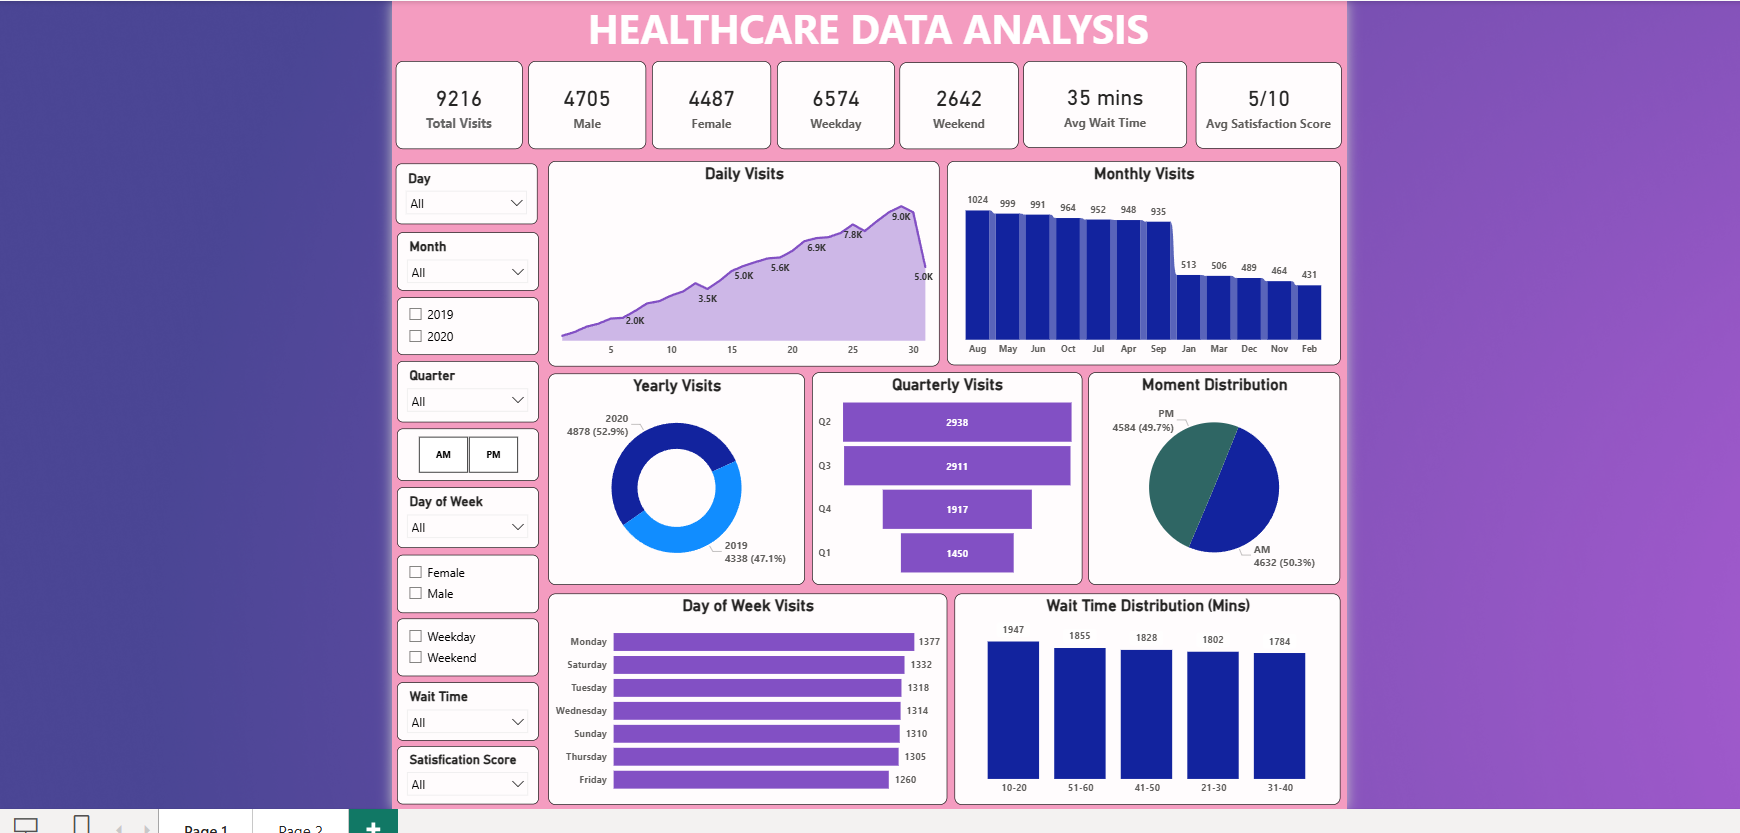

The page's visual inventory and layout, read from the dashboard file:
{"tool":"powerbi","page":{"name":"Page 1","canvas":[1282,1086],"ordinal":0},"visuals":[{"type":"stackedAreaChart","title":"Daily Visits","fields":{"Category":["date_time table.day"],"Y":["Sum(date_time table.day)"]},"box":[210,215.7,525.7,275.7],"z":0},{"type":"columnChart","title":"Monthly Visits","fields":{"Category":["date_time table.month"],"Y":["CountNonNull(date_time table.month)"]},"box":[745.7,215.7,528.6,274.3],"z":1000},{"type":"donutChart","title":"Yearly Visits","fields":{"Y":["CountNonNull(date_time table.year)"],"Category":["date_time table.year"]},"box":[210,500,345,283.8],"z":2000},{"type":"clusteredBarChart","title":"Day of Week Visits","fields":{"Category":["date_time table.day of week"],"Y":["CountNonNull(date_time table.day of week)"]},"box":[210,795.7,535.7,284.3],"z":3000},{"type":"funnel","title":"Quarterly Visits","fields":{"Category":["date_time table.quarter"],"Y":["CountNonNull(date_time table.quarter)"]},"box":[564.3,499.4,362.9,285.7],"z":4000},{"type":"pieChart","title":"Moment Distribution","fields":{"Category":["date_time table.Moment"],"Y":["CountNonNull(date_time table.Moment)"]},"box":[935.7,498,338.6,285.7],"z":5000},{"type":"textbox","box":[0,0,1280,74.3],"z":6000},{"type":"lineStackedColumnComboChart","title":"Wait Time Distribution (Mins)","fields":{"Category":["date_time table.waittime_bucket"],"Y":["CountNonNull(date_time table.waittime_bucket)"]},"box":[755.7,795.7,518.6,284.3],"z":7000},{"type":"slicer","fields":{"Values":["date_time table.day of week"]},"box":[6.2,653.8,190,81.2],"z":8000},{"type":"slicer","fields":{"Values":["date_time table.Moment"]},"box":[6.2,575,190,70],"z":9000},{"type":"slicer","fields":{"Values":["date_time table.quarter"]},"box":[6.2,483.8,190,82.5],"z":10000},{"type":"slicer","fields":{"Values":["date_time table.year"]},"box":[6.2,397.5,190,77.5],"z":11000},{"type":"slicer","fields":{"Values":["date_time table.month"]},"box":[6.2,310,190,78.8],"z":12000},{"type":"slicer","fields":{"Values":["date_time table.day"]},"box":[5.7,218.2,190,81.4],"z":13000},{"type":"slicer","fields":{"Values":["patient table.patient_gender"]},"box":[6.2,743.8,190,78.8],"z":14000},{"type":"slicer","fields":{"Values":["date_time table.weekday/weekend"]},"box":[6.2,830,190,77.5],"z":15000},{"type":"slicer","fields":{"Values":["date_time table.waittime_bucket"]},"box":[6.2,915,190,78.8],"z":16000},{"type":"slicer","fields":{"Values":["activity table.satisfication_score"]},"box":[6.2,1001.2,190,78.8],"z":17000},{"type":"card","fields":{"Values":["Count(patient table.patient_id)"]},"box":[5.7,80,170,118.6],"z":18000},{"type":"card","fields":{"Values":["CountNonNull(patient table.patient_gender)"]},"box":[183.8,80.1,158.3,118.3],"z":19000},{"type":"card","fields":{"Values":["CountNonNull(patient table.patient_gender)"]},"box":[350,80,160,118.6],"z":20000},{"type":"card","fields":{"Values":["date_time table.Avg Wait Time"]},"box":[848.6,81.4,220,117.1],"z":21000},{"type":"card","fields":{"Values":["date_time table.Avg Satisfication Score"]},"box":[1079.7,82.6,195.7,115.9],"z":22000},{"type":"card","fields":{"Values":["CountNonNull(date_time table.weekday/weekend)"]},"box":[516.8,80.1,158.3,118.3],"z":23000},{"type":"card","fields":{"Values":["CountNonNull(date_time table.weekday/weekend)"]},"box":[682.4,81.9,160.1,116.5],"z":24000}]}

Visuals, with their boxes on the page's 1282x1086 design canvas (x1, y1, x2, y2). These are canvas units, not pixel positions in the 1740x833 screenshot, which may show the page scaled, cropped or inside an application window:
"Daily Visits" stackedAreaChart: 210,216,736,491
"Monthly Visits" columnChart: 746,216,1274,490
"Yearly Visits" donutChart: 210,500,555,784
"Day of Week Visits" clusteredBarChart: 210,796,746,1080
"Quarterly Visits" funnel: 564,499,927,785
"Moment Distribution" pieChart: 936,498,1274,784
textbox: 0,0,1280,74
"Wait Time Distribution (Mins)" lineStackedColumnComboChart: 756,796,1274,1080
slicer - date_time table.day of week: 6,654,196,735
slicer - date_time table.Moment: 6,575,196,645
slicer - date_time table.quarter: 6,484,196,566
slicer - date_time table.year: 6,398,196,475
slicer - date_time table.month: 6,310,196,389
slicer - date_time table.day: 6,218,196,300
slicer - patient table.patient_gender: 6,744,196,823
slicer - date_time table.weekday/weekend: 6,830,196,908
slicer - date_time table.waittime_bucket: 6,915,196,994
slicer - activity table.satisfication_score: 6,1001,196,1080
card - Count(patient table.patient_id): 6,80,176,199
card - CountNonNull(patient table.patient_gender): 184,80,342,198
card - CountNonNull(patient table.patient_gender): 350,80,510,199
card - date_time table.Avg Wait Time: 849,81,1069,198
card - date_time table.Avg Satisfication Score: 1080,83,1275,198
card - CountNonNull(date_time table.weekday/weekend): 517,80,675,198
card - CountNonNull(date_time table.weekday/weekend): 682,82,842,198
